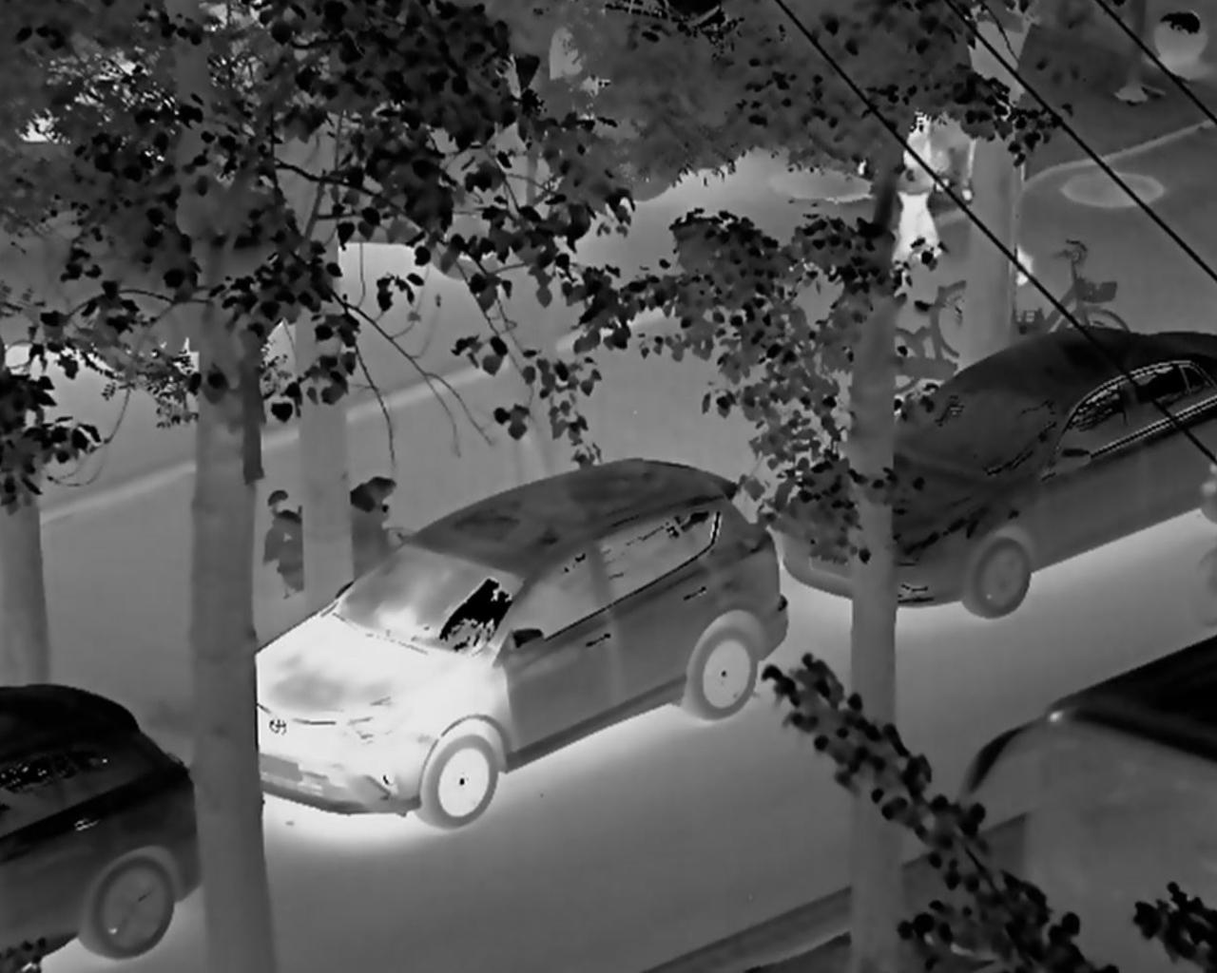person: (892, 93, 956, 264)
